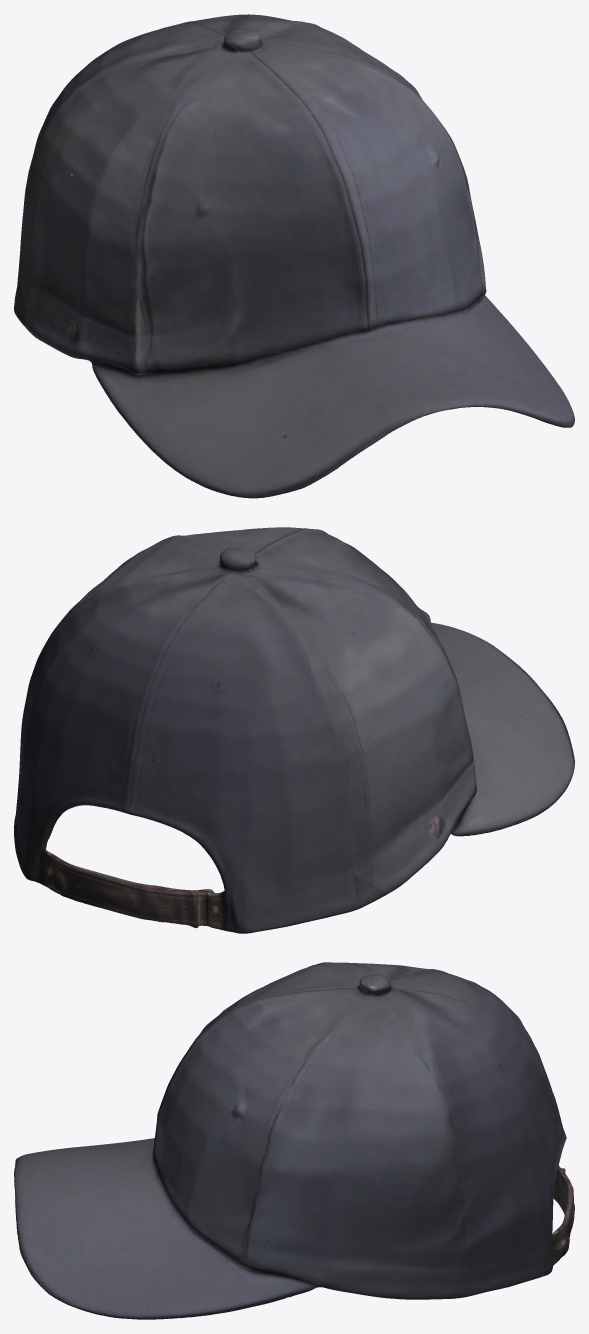
The model's file is hat.glb.
3 renders of one model, top to bottom at view 1: azimuth 30°, elevation 25°; view 2: azimuth 150°, elevation 25°; view 3: azimuth 270°, elevation 25°, orthographic. The views are drawn at different scales.
Bounding box in the file's own units: 1.38 × 1.05 × 2.
Materials: 1 (1 with a texture image).
